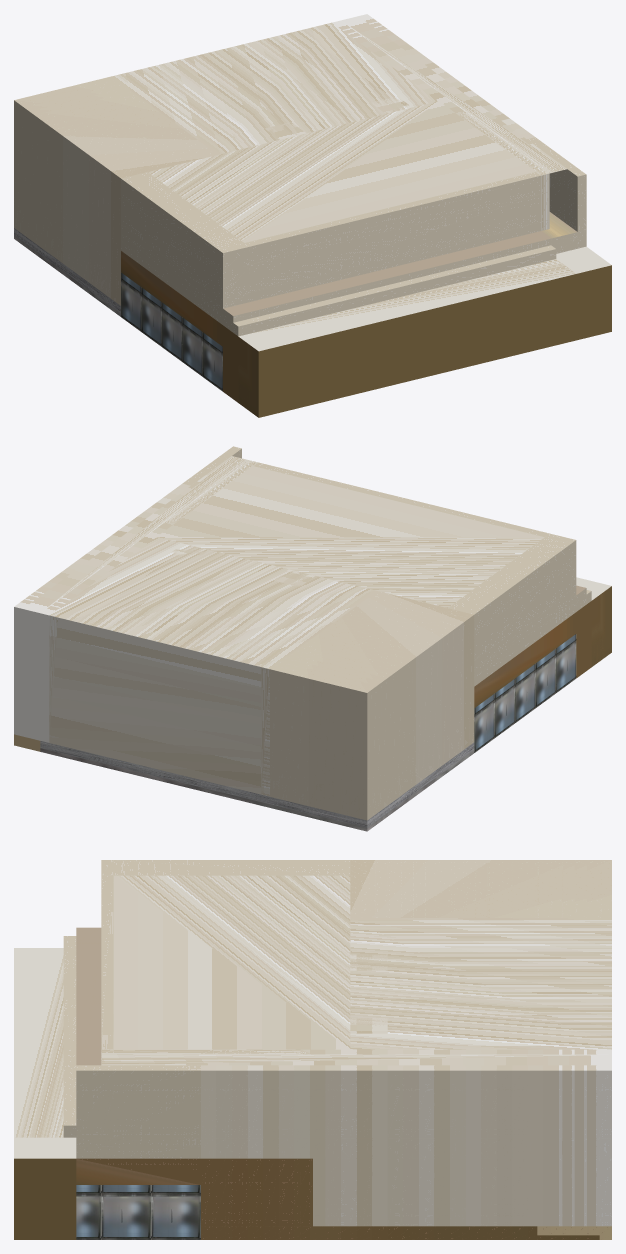
Rendered from mitakiharahospital_entrance.fbx.
3 renders of one model, top to bottom at view 1: azimuth 30°, elevation 25°; view 2: azimuth 150°, elevation 25°; view 3: azimuth 270°, elevation 25°, orthographic. The views are drawn at different scales.
Parts seen in each view (by area): view 1: wall; view 2: wall; view 3: wall.
Part boxes in pixels (x1,y1,x2,y2): wall: [14, 14, 611, 417]; wall: [14, 446, 611, 831]; wall: [14, 860, 611, 1239].
Bounding box in the file's own units: 2000 × 755 × 2400.
